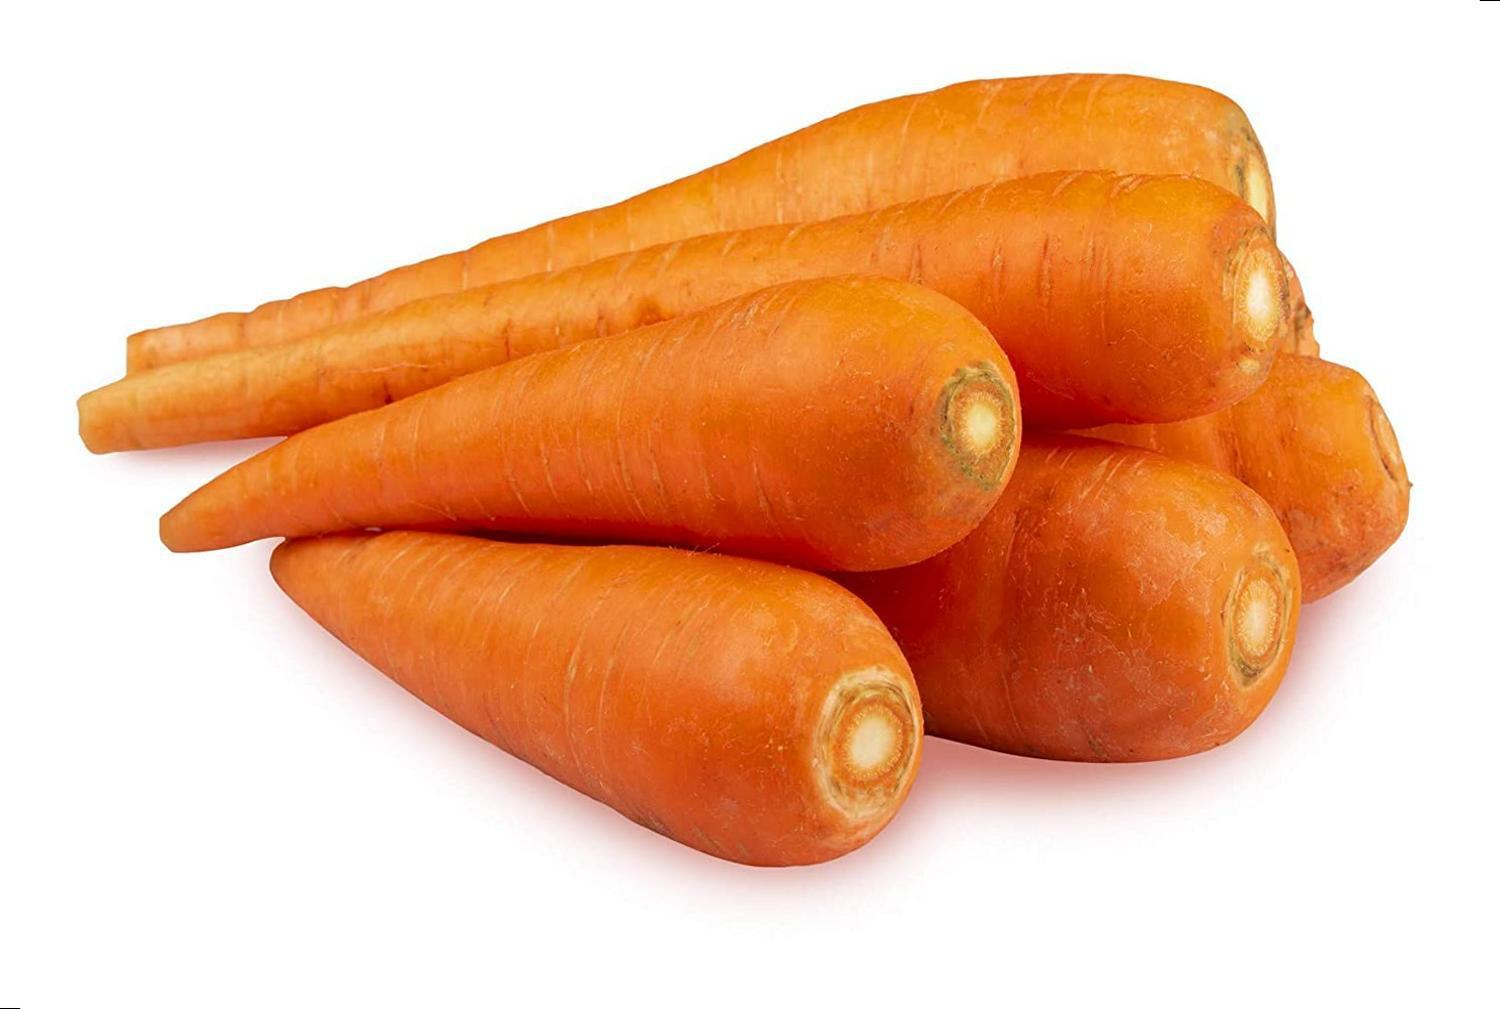carrot: (89, 72, 1376, 809), (259, 502, 931, 870), (167, 372, 1006, 588)
